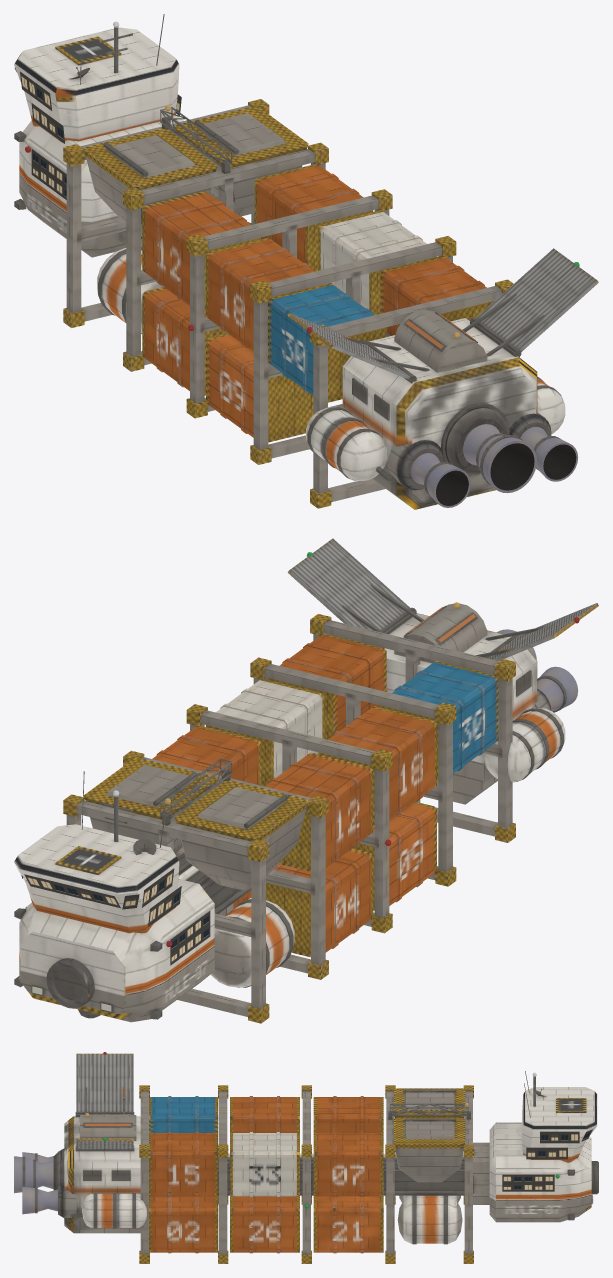
File: freighter.glb
The picture shows the model from 3 angles, top to bottom: view 1: azimuth 30°, elevation 25°; view 2: azimuth 150°, elevation 25°; view 3: azimuth 270°, elevation 25°; orthographic projection. The views are drawn at different scales.
Parts seen in each view (by area): view 1: hull; view 2: hull; view 3: hull.
Part boxes in pixels (x1,y1,x2,y2): hull: [14, 14, 598, 509]; hull: [14, 538, 598, 1023]; hull: [14, 1052, 598, 1263].
Bounding box in the file's own units: 39.53 × 34.16 × 112.
Materials: 2 (2 with a texture image).
